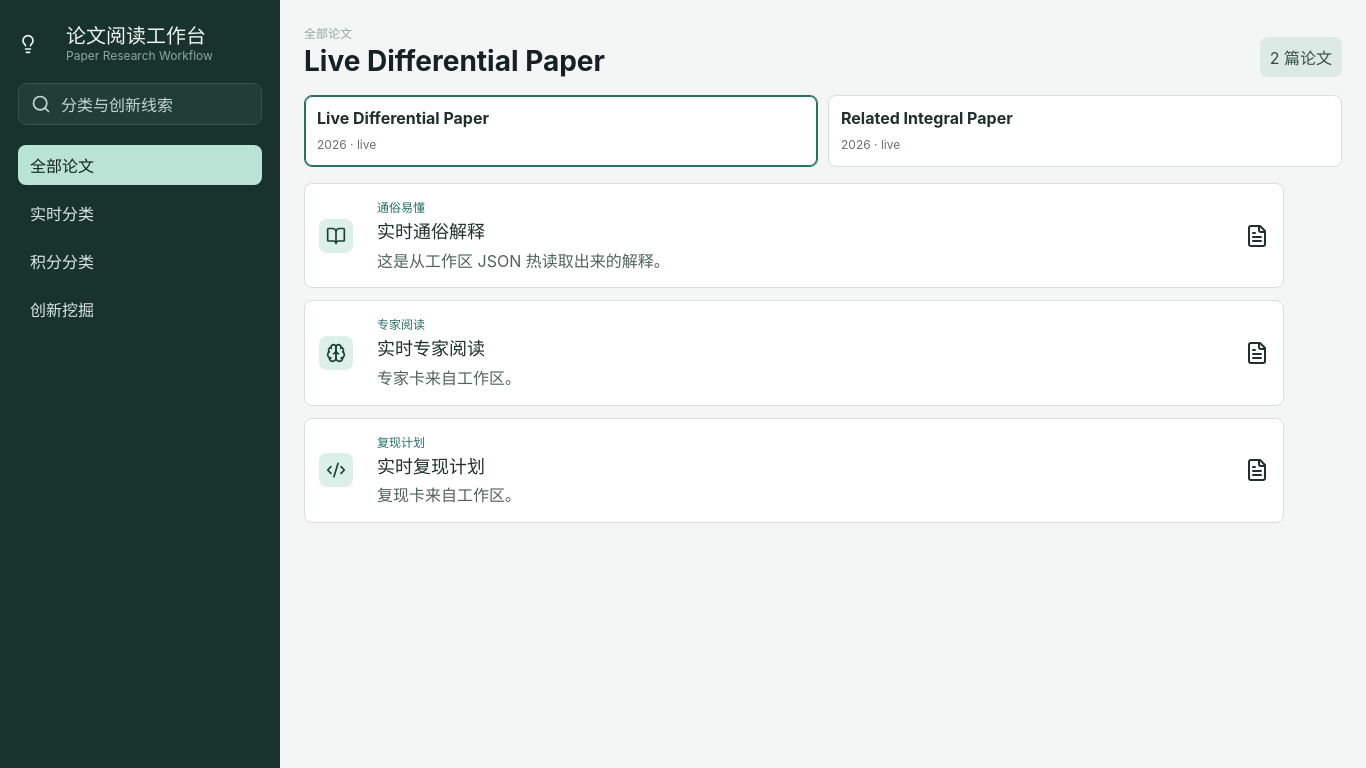
Test: Paper research workbench › filters papers by category
Click the button "积分分类".
click(140, 261)  # box 18,241 -> 262,281
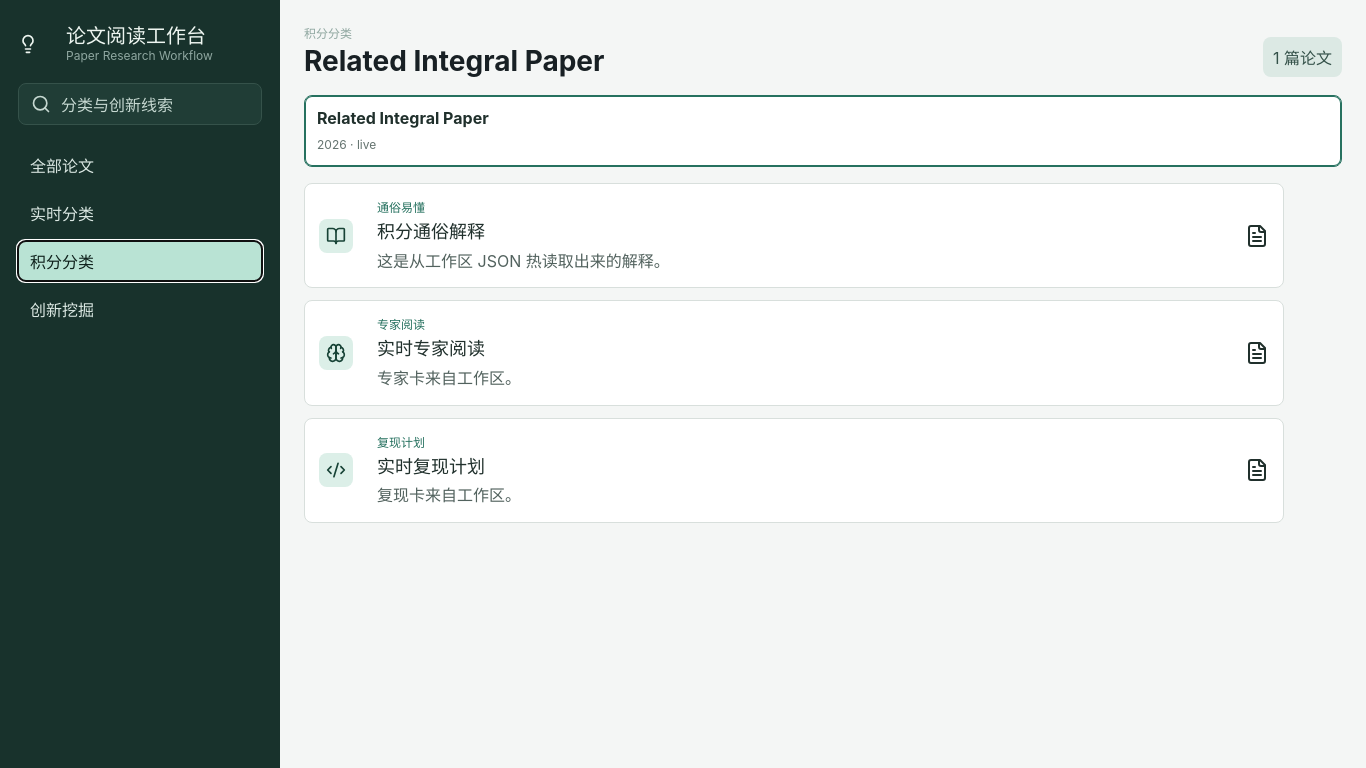
Expected: the heading "Related Integral Paper" is shown, 304,45 -> 604,77
Expected: the heading "Live Differential Paper" is gone
